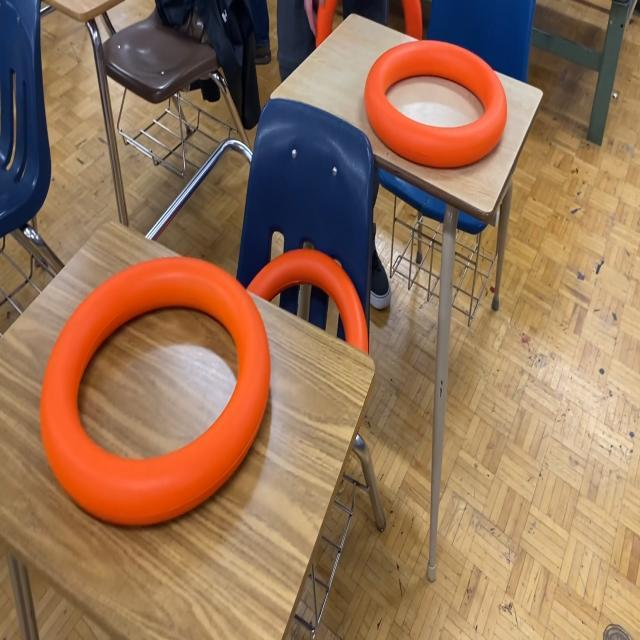note: (40, 257, 268, 529), (364, 39, 508, 168), (246, 249, 372, 357), (315, 0, 424, 52)
